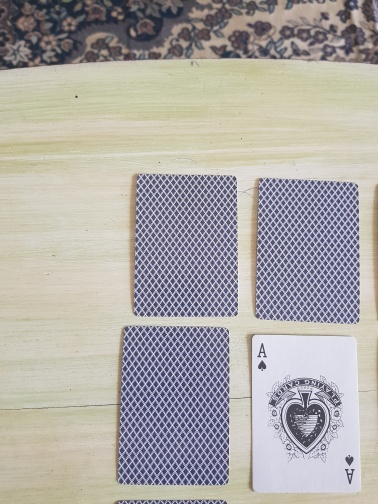ace: (250, 334, 360, 494)
